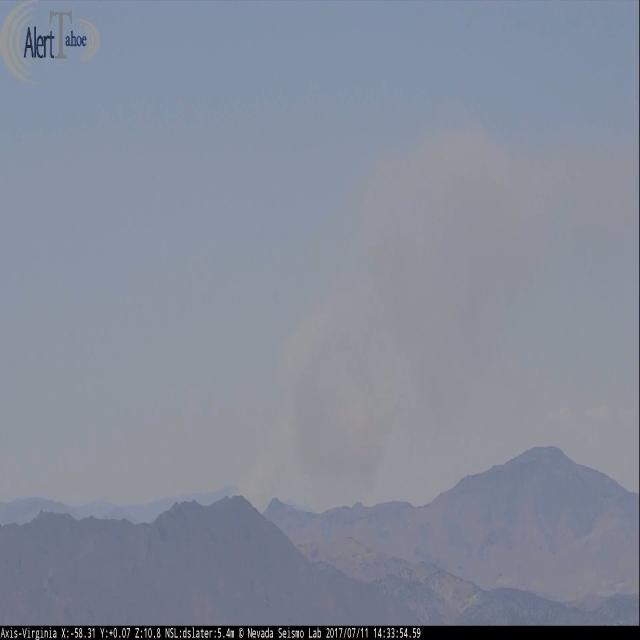smoke: (238, 107, 640, 516)
